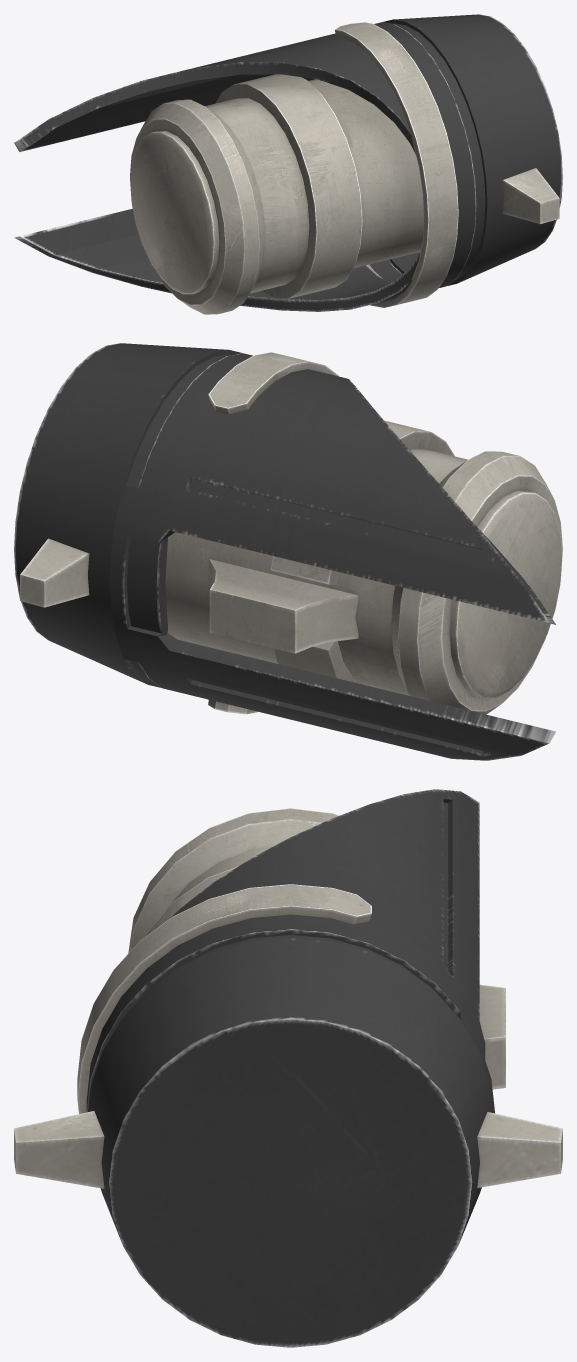
Rendered from pommel_18_r_d.glb.
3 views of the same model, one above another, from view 1: azimuth 30°, elevation 25°; view 2: azimuth 150°, elevation 25°; view 3: azimuth 270°, elevation 25° (orthographic). The views are drawn at different scales.
Visible parts, largest first — view 1: pommel_18_r_d_lod0; view 2: pommel_18_r_d_lod0; view 3: pommel_18_r_d_lod0.
Boxes of the visible parts, x1,y1,x2,y2 form: pommel_18_r_d_lod0: (14,14,562,314); pommel_18_r_d_lod0: (14,343,562,760); pommel_18_r_d_lod0: (14,789,562,1347).
Size of what is drawn, in the model's own units: 0.0636 by 0.037 by 0.0475.
Materials: 1 (1 with a texture image).
